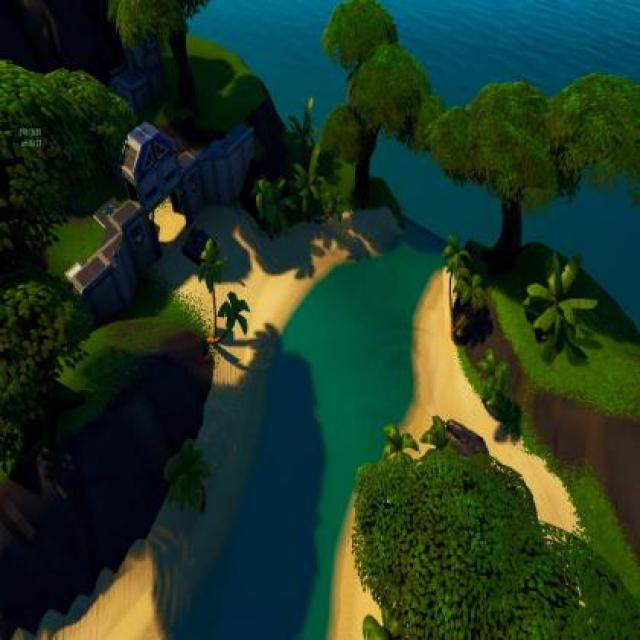tank: (433, 412, 493, 463), (180, 225, 228, 269)
